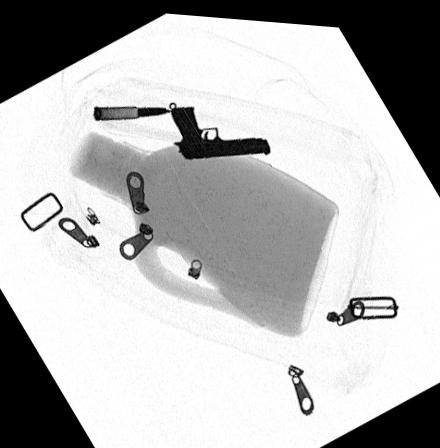Bullet: (93, 103, 173, 118)
Gun: (169, 100, 269, 154)
